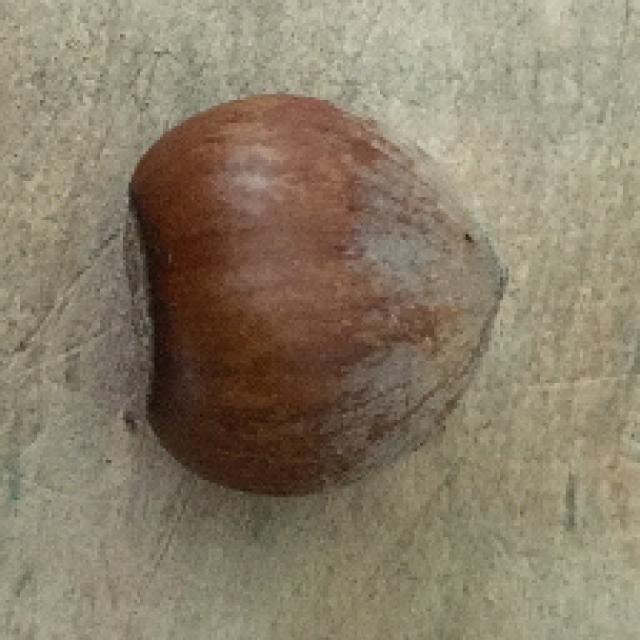qualityHazelnut: (106, 86, 510, 503)
